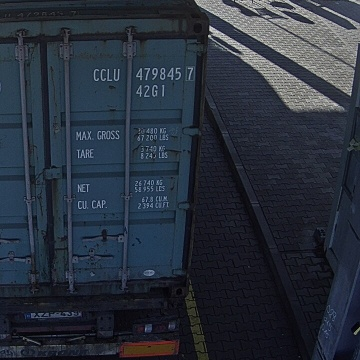serial_id: (93, 67, 194, 81)
